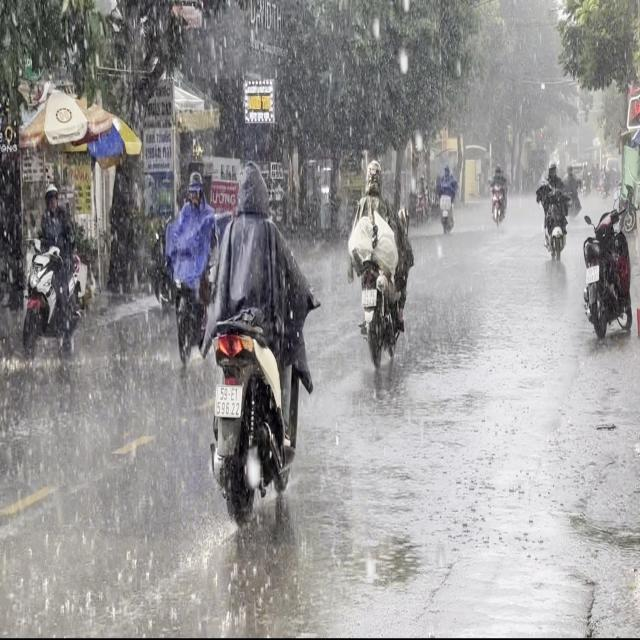helmet: (236, 161, 268, 216), (364, 158, 380, 193), (44, 182, 58, 210)
licenseplate: (199, 154, 314, 532), (346, 156, 408, 366)
nohelmet: (215, 384, 241, 416), (362, 288, 376, 306)
